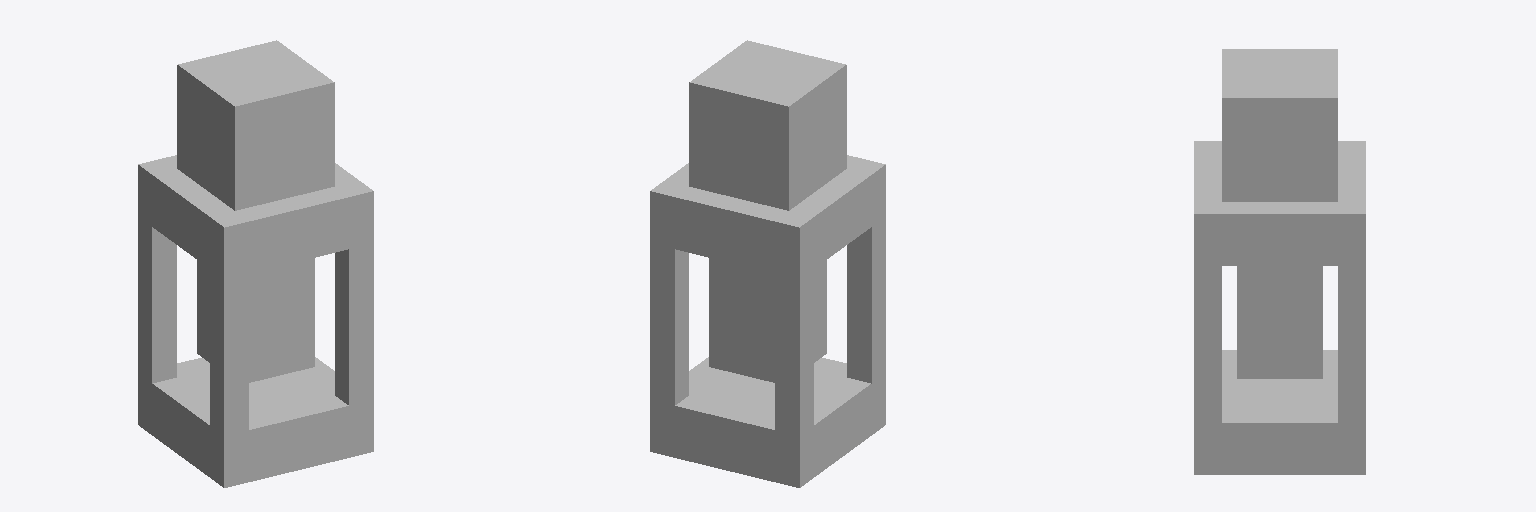
The model's file is redstone_state_cell.obj.
The picture shows the model from 3 angles: view 1: azimuth 30°, elevation 25°; view 2: azimuth 150°, elevation 25°; view 3: azimuth 270°, elevation 25°; orthographic projection.
Parts seen in each view (by area): view 1: state_cell; view 2: state_cell; view 3: state_cell.
Boxes of the visible parts, box(x1,y1,x2,y2) form: state_cell: box(138, 40, 373, 487); state_cell: box(650, 40, 885, 487); state_cell: box(1194, 49, 1365, 474).
Bounding box in the file's own units: 0.375 × 0.875 × 0.375.